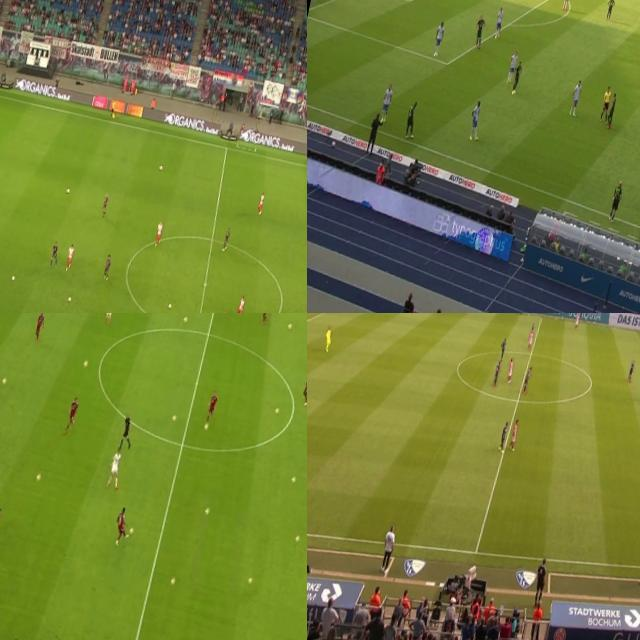ball: (204, 508, 212, 518), (293, 534, 301, 544), (248, 574, 254, 587), (169, 576, 175, 588), (65, 293, 72, 303), (157, 162, 163, 173), (290, 474, 296, 485), (10, 272, 16, 282), (64, 184, 70, 193), (0, 375, 6, 384), (36, 472, 42, 481), (182, 314, 188, 322), (172, 412, 176, 423), (82, 358, 88, 365), (167, 300, 172, 308), (130, 526, 134, 534), (288, 322, 293, 328), (275, 405, 279, 412)
player: (465, 95, 488, 144), (402, 96, 422, 136), (378, 80, 395, 125), (112, 506, 132, 544), (107, 448, 126, 487), (508, 58, 526, 98), (605, 88, 621, 130), (472, 14, 489, 52), (492, 3, 508, 40), (430, 21, 446, 56), (64, 397, 79, 434), (568, 79, 582, 116), (503, 50, 518, 84), (508, 416, 522, 450), (321, 322, 336, 352), (497, 418, 510, 452), (205, 390, 218, 423), (520, 362, 533, 394), (220, 222, 232, 254), (153, 219, 165, 250), (48, 242, 62, 266), (33, 313, 45, 340), (299, 370, 307, 409), (504, 356, 516, 382), (64, 245, 75, 272), (102, 253, 113, 280), (491, 360, 502, 387), (256, 190, 266, 217), (604, 0, 616, 22), (498, 336, 508, 362), (100, 192, 110, 217), (626, 358, 636, 382), (526, 328, 536, 350), (236, 295, 244, 313), (573, 313, 580, 328), (561, 0, 572, 9), (104, 313, 115, 321), (261, 313, 272, 320), (302, 300, 307, 313), (638, 333, 640, 352)
